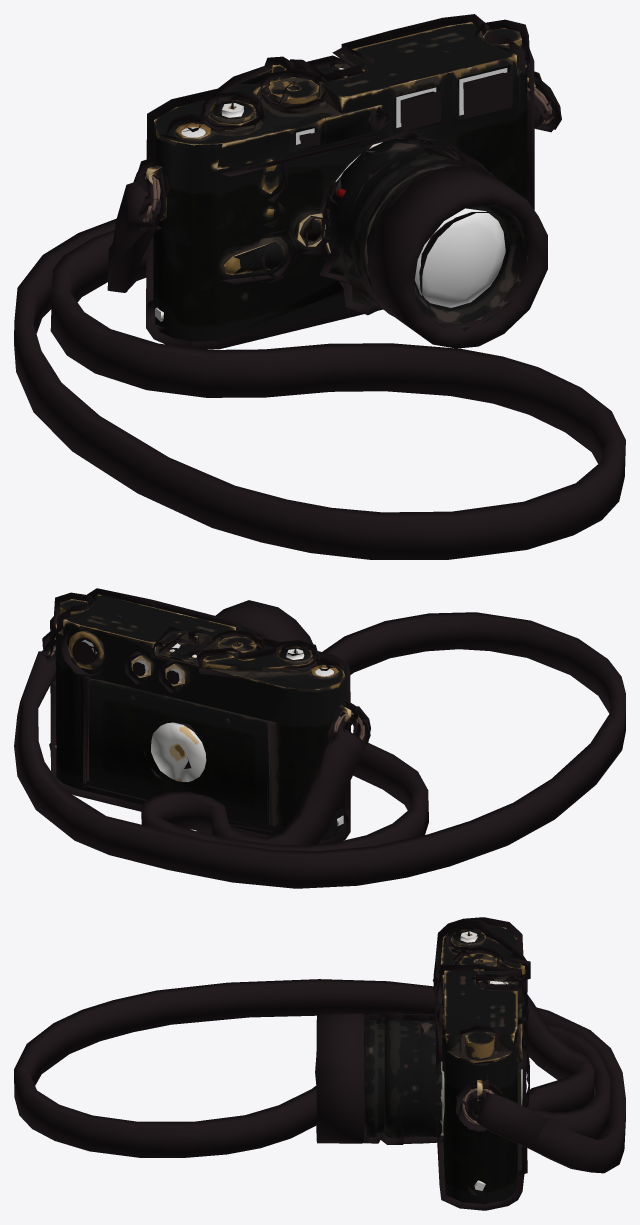
File: SM_Int_Camera.fbx
The picture shows the model from 3 angles, top to bottom: view 1: azimuth 30°, elevation 25°; view 2: azimuth 150°, elevation 25°; view 3: azimuth 270°, elevation 25°; orthographic projection. The views are drawn at different scales.
Parts seen in each view (by area): view 1: SM_Int_Camera; view 2: SM_Int_Camera; view 3: SM_Int_Camera.
Boxes of the visible parts, left/top/right/bottom form: SM_Int_Camera: left=14, top=14, right=625, bottom=559; SM_Int_Camera: left=14, top=588, right=625, bottom=888; SM_Int_Camera: left=14, top=917, right=625, bottom=1210.
Size of the model in its own units: 0.2194 by 0.0831 by 0.2678.
